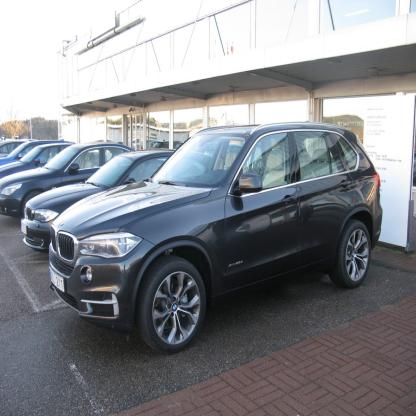Car: (49, 121, 387, 361), (21, 152, 227, 255), (1, 145, 137, 217), (1, 137, 86, 180), (1, 137, 32, 160)
